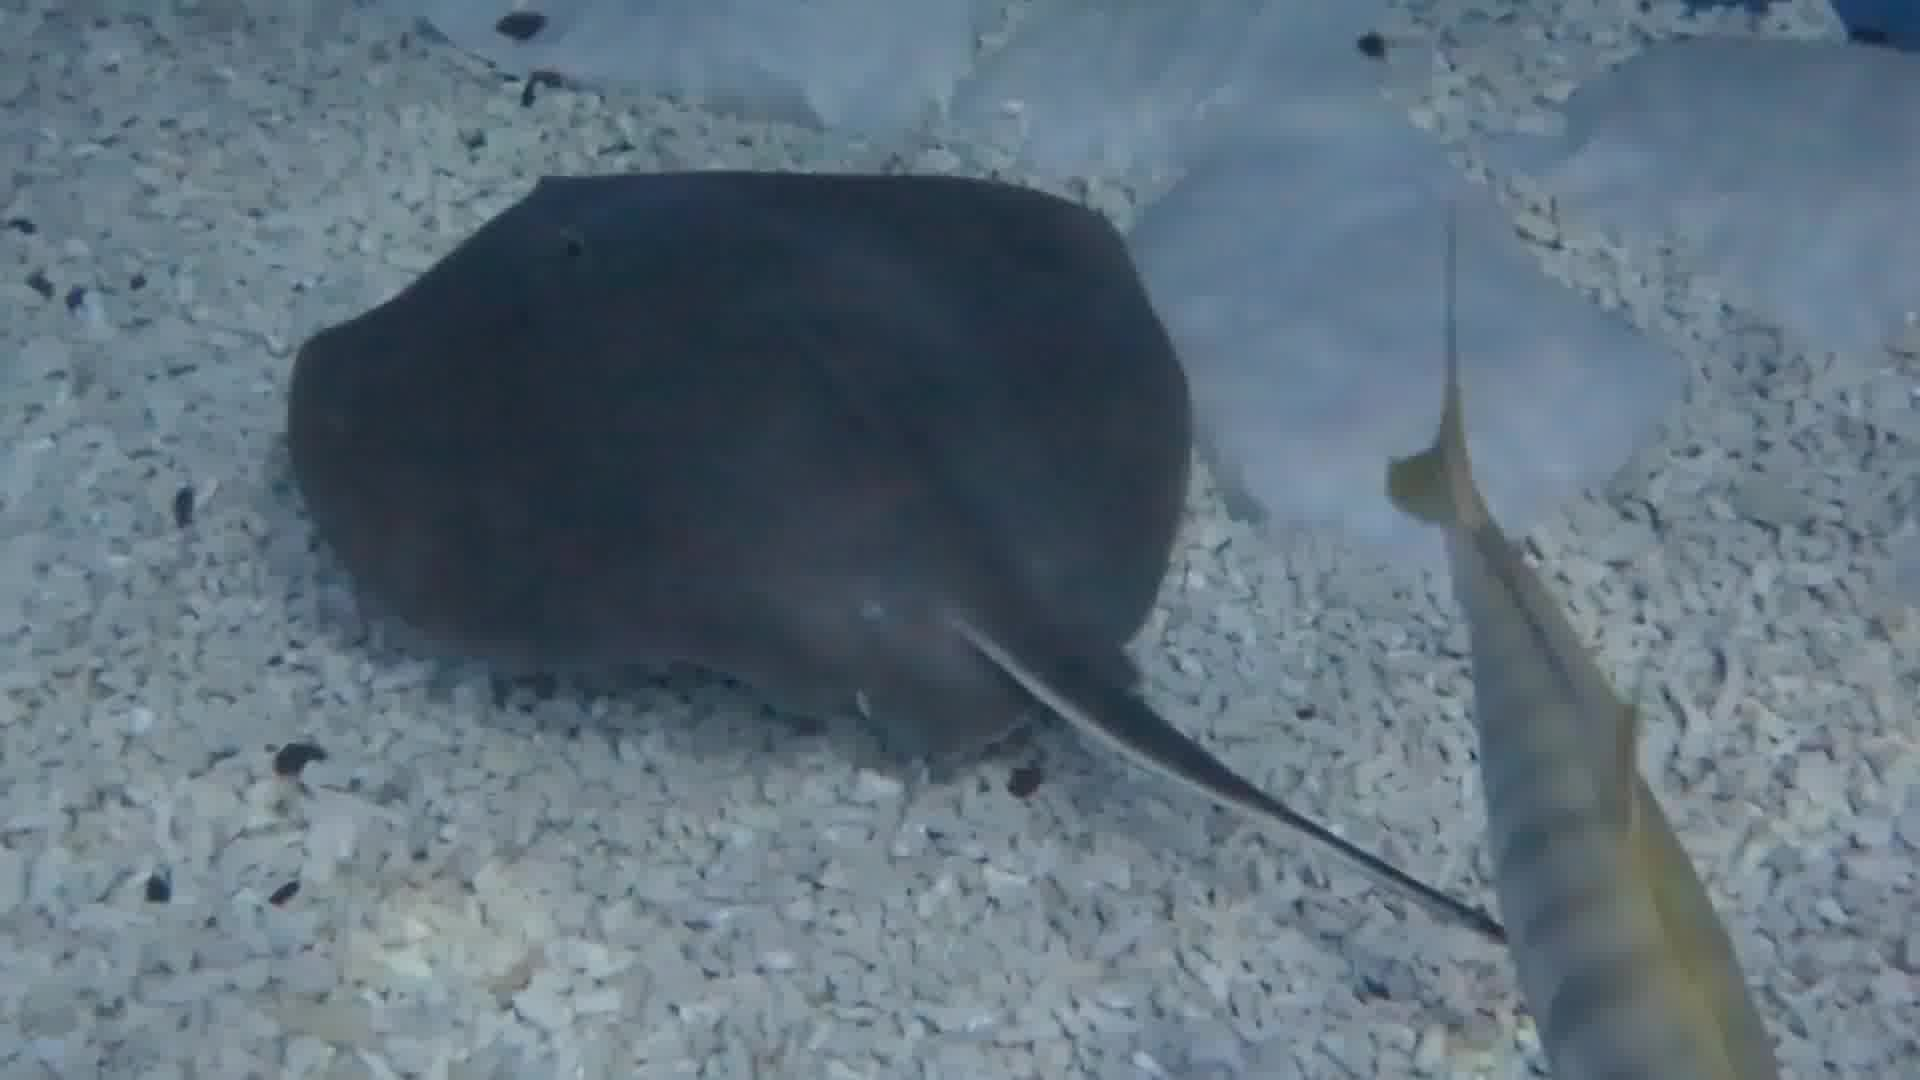Dasyatis bennetti: (255, 69, 1294, 897)
